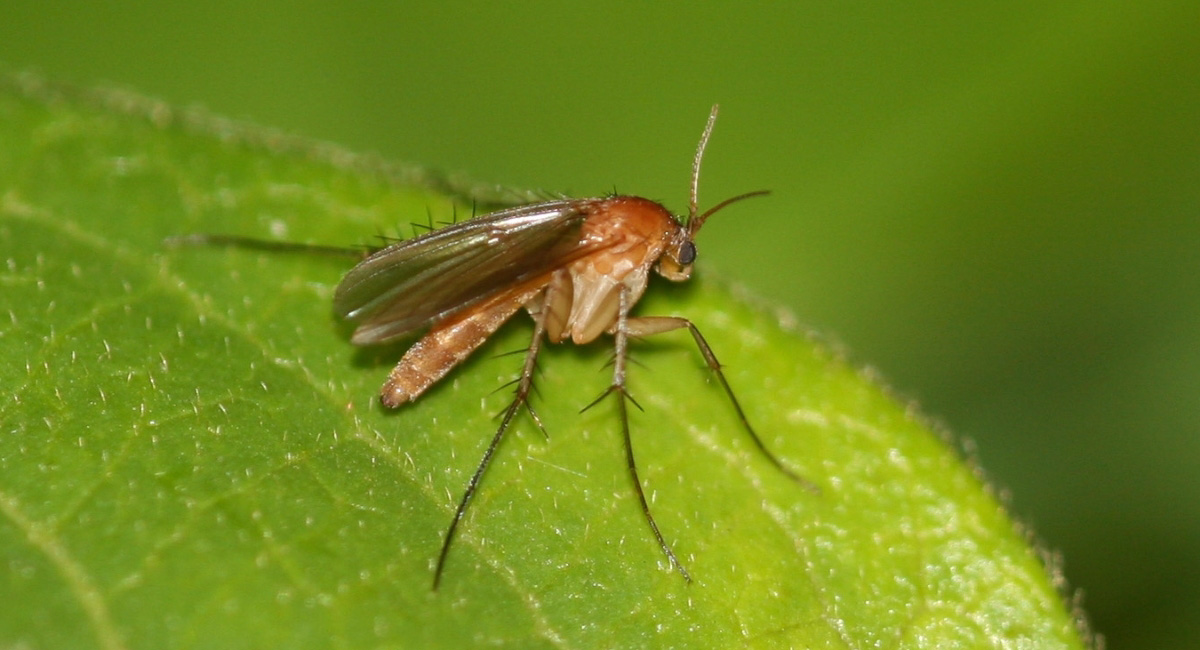Fruit fly: (334, 138, 762, 571)
